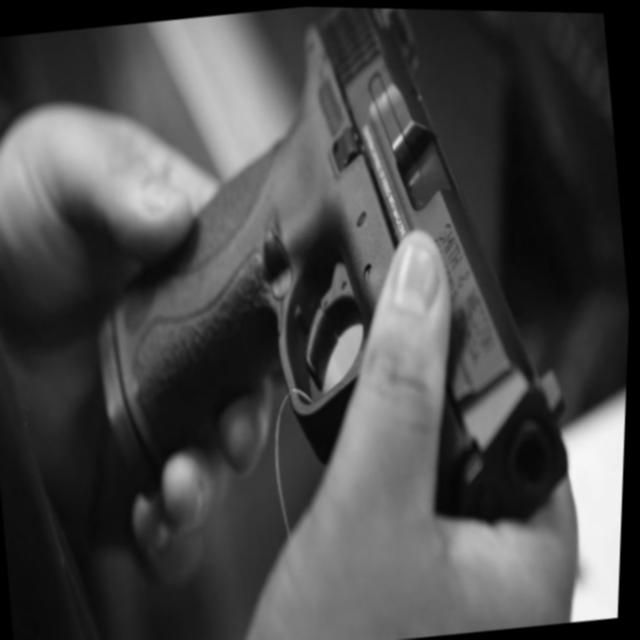weapon: (52, 1, 593, 572)
